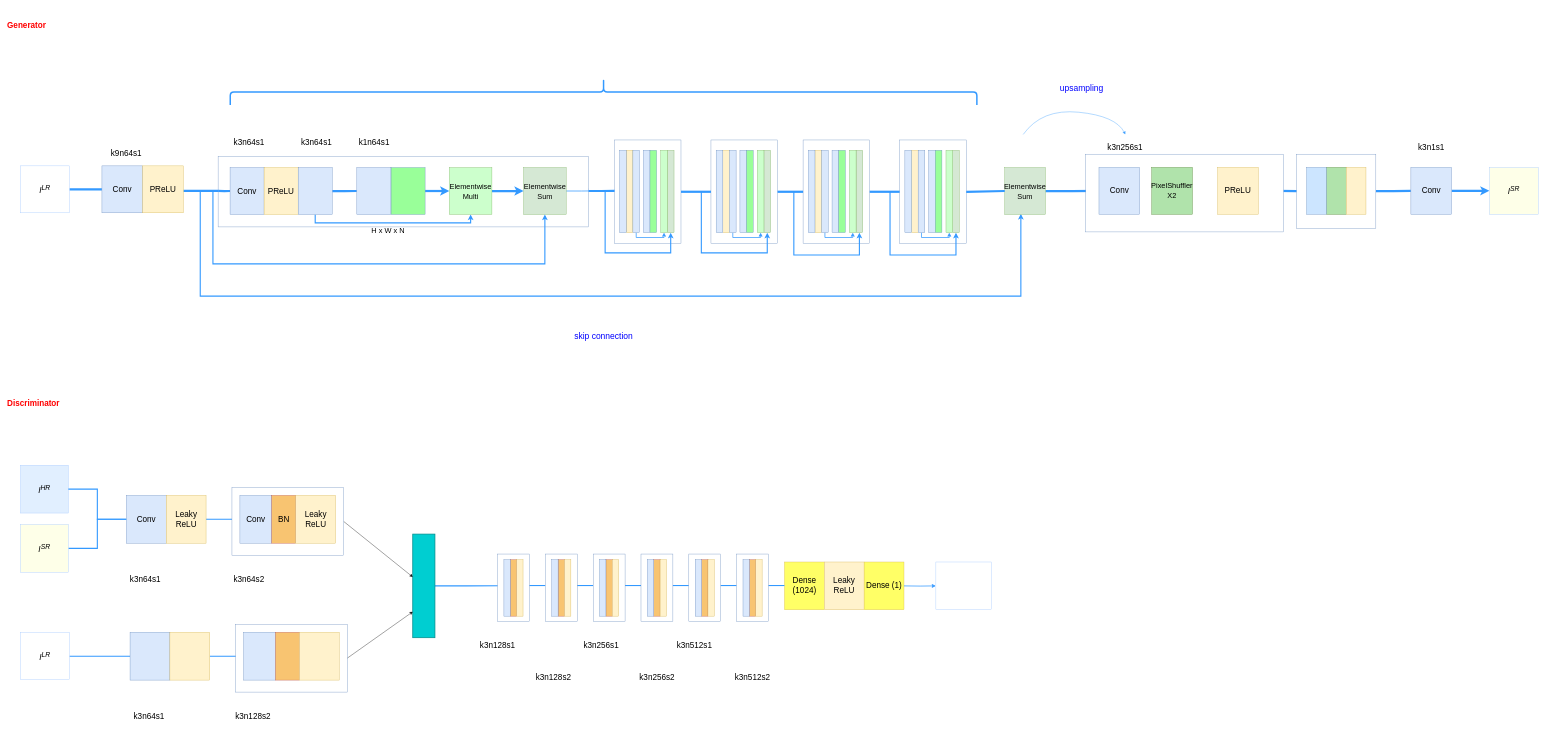
The diagram is 1545 pixels wide and 730 high, and some of its shapes have lost their labels. Each missing label, with the centre of its shape:
Con-catenation: the point at 423,586
Real or Fake: the point at 964,586
Residual Whole Map Attention Blocks: the point at 603,92
Sigmoid: the point at 408,190
